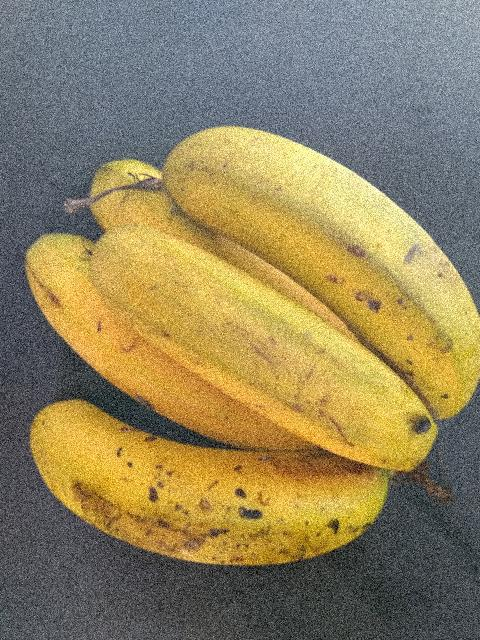ripe: (170, 102, 479, 405), (88, 225, 452, 454), (21, 384, 398, 568)
